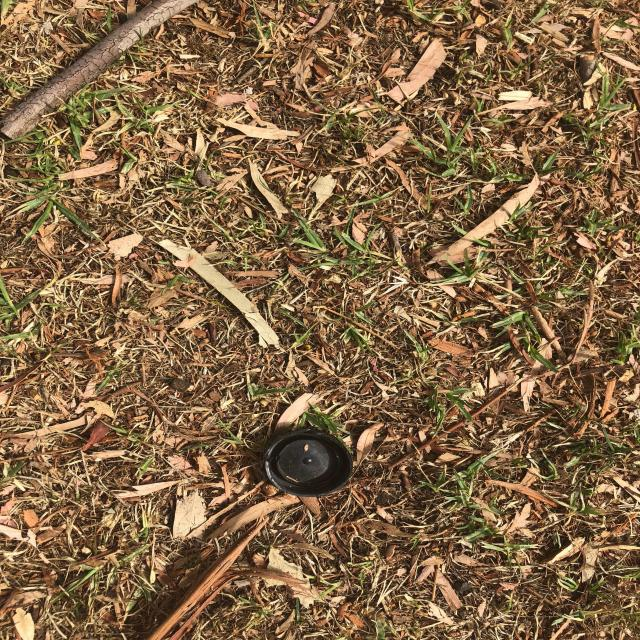Plastic bottle cap: (264, 429, 353, 497)
